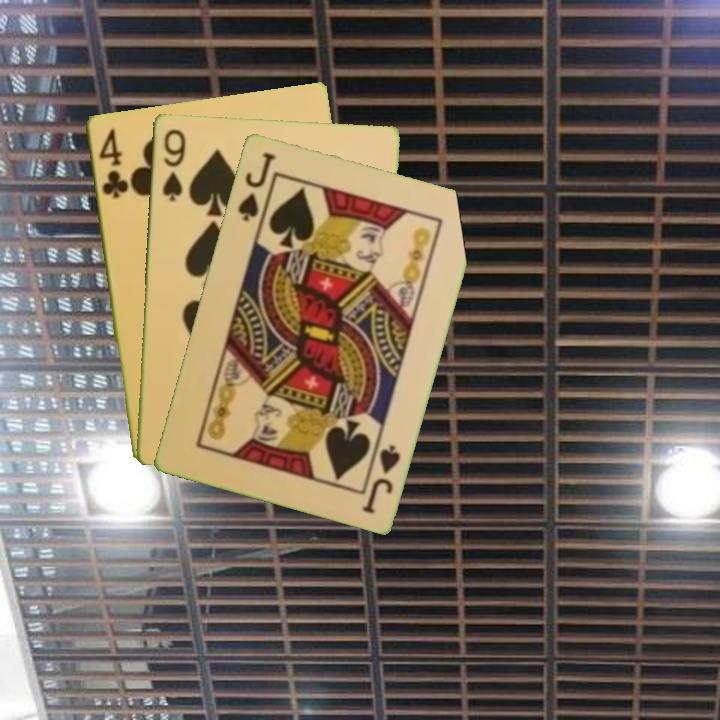4c: (95, 125, 130, 201)
9s: (158, 125, 189, 204)
Js: (358, 440, 403, 516), (234, 148, 278, 224)
